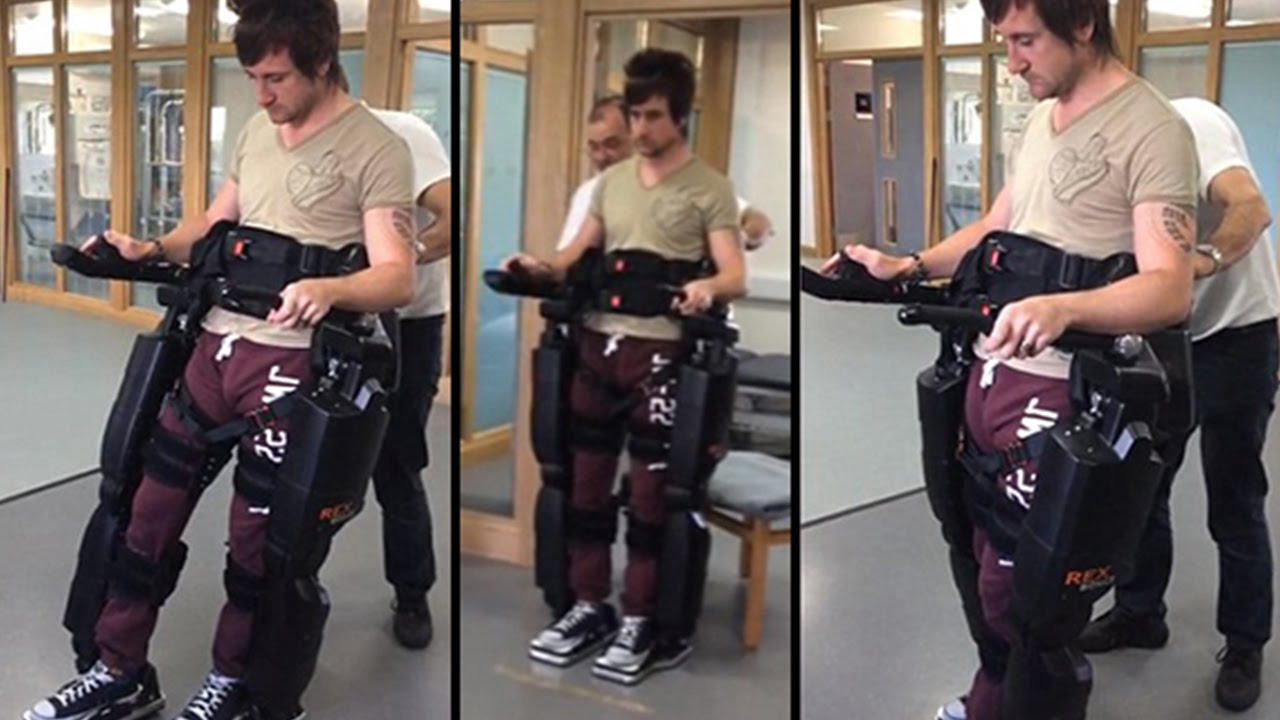feet: (1061, 544, 1278, 720), (8, 601, 250, 720), (528, 540, 705, 682), (254, 560, 450, 661)
